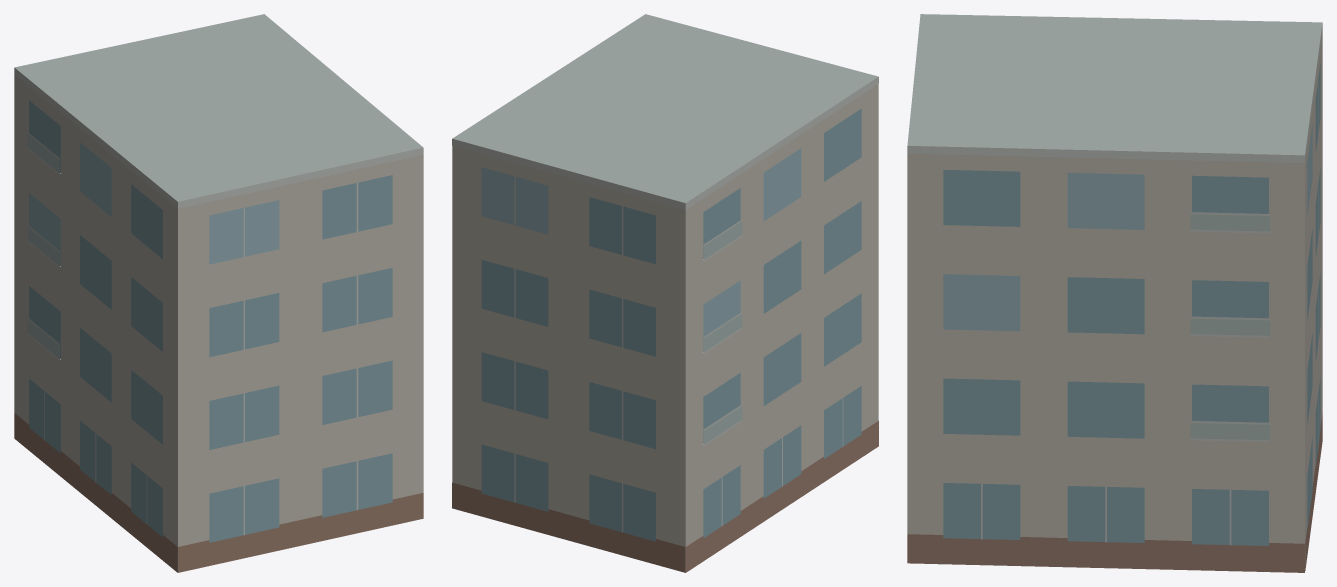
The model's file is survey-upis-32703097.glb.
3 renders of one model, left to right at view 1: azimuth 30°, elevation 25°; view 2: azimuth 150°, elevation 25°; view 3: azimuth 270°, elevation 25°, orthographic. The views are drawn at different scales.
Visible parts, largest first — view 1: survey-upis-32703097.tmp; view 2: survey-upis-32703097.tmp; view 3: survey-upis-32703097.tmp.
Part boxes in pixels (box(x1,y1,x2,y2)): survey-upis-32703097.tmp: box(14, 14, 423, 572); survey-upis-32703097.tmp: box(452, 14, 878, 572); survey-upis-32703097.tmp: box(907, 14, 1322, 572).
Size of the model in its own units: 9.45 by 13 by 11.73.
